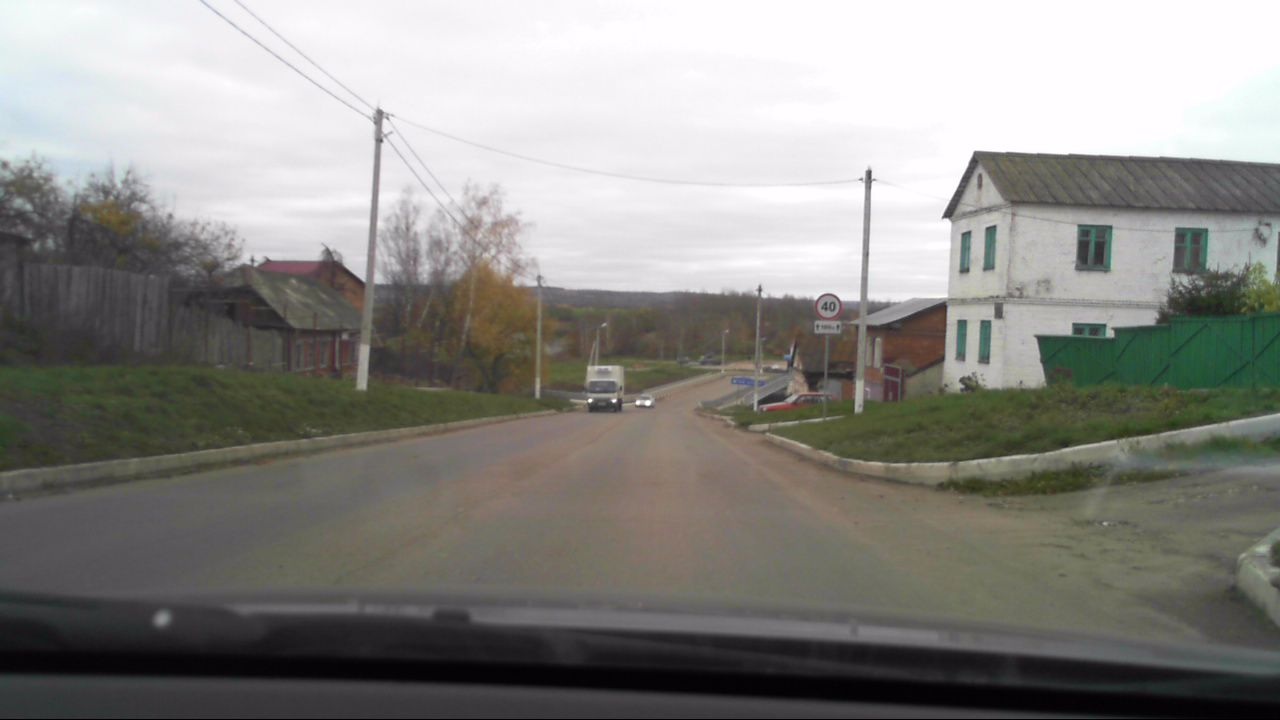speed_warning_40: (815, 292, 841, 319)
